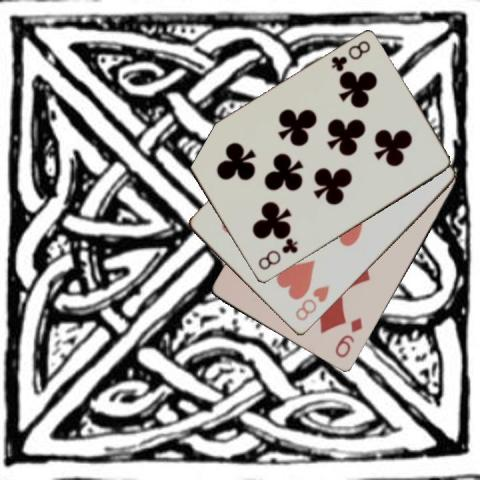8c: (328, 37, 372, 74), (255, 236, 299, 272)
8h: (292, 282, 331, 323)
9d: (332, 315, 364, 360)
